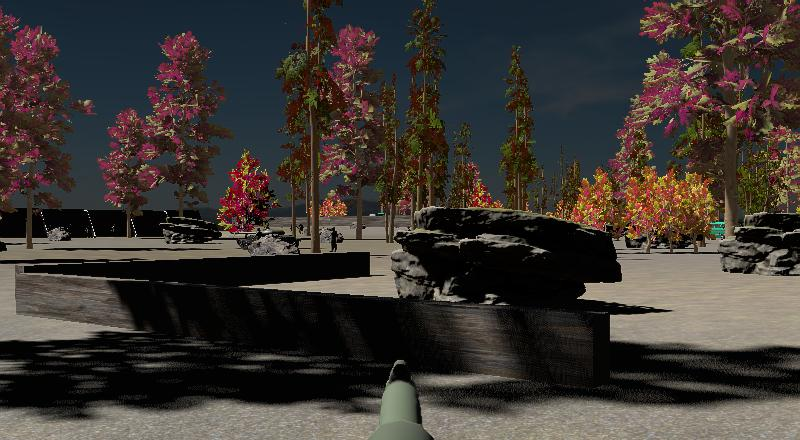car: (707, 220, 729, 241)
